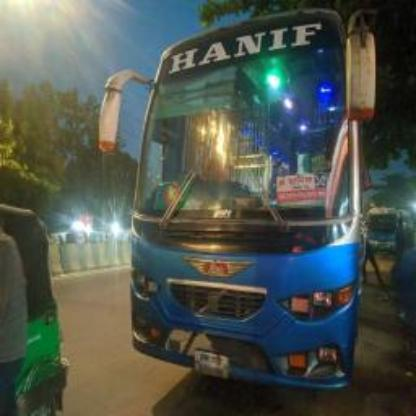bus: (91, 9, 370, 394), (6, 197, 72, 416)
